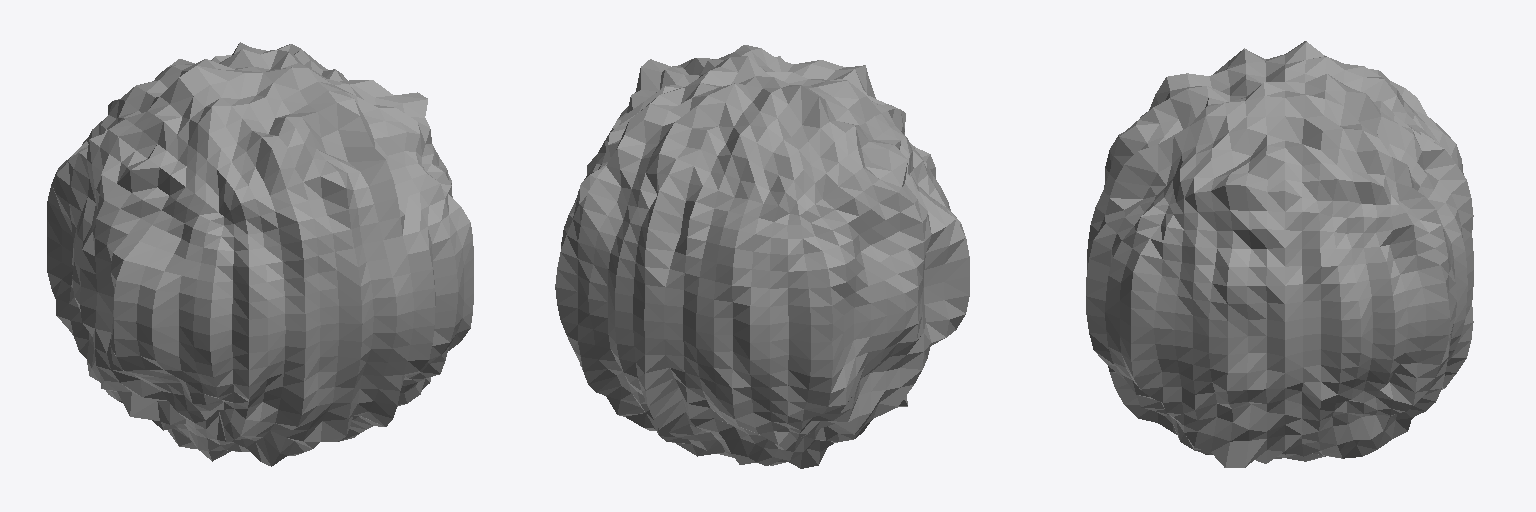
The model's file is asteroid91.obj.
The picture shows the model from 3 angles: view 1: azimuth 30°, elevation 25°; view 2: azimuth 150°, elevation 25°; view 3: azimuth 270°, elevation 25°; orthographic projection.
Parts seen in each view (by area): view 1: Cube_Cube.002; view 2: Cube_Cube.002; view 3: Cube_Cube.002.
Part boxes in pixels (bbox=[...]): Cube_Cube.002: bbox=[47, 42, 473, 466]; Cube_Cube.002: bbox=[555, 45, 969, 468]; Cube_Cube.002: bbox=[1086, 41, 1473, 467].
Size of the model in its own units: 1.76 by 1.87 by 1.72.